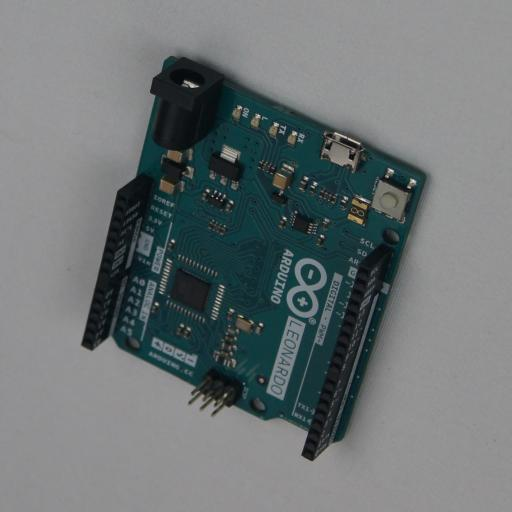Arduino Leonardo: (81, 56, 429, 461)
